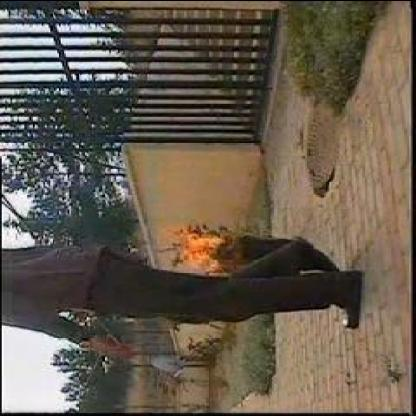foggia-v2-map80-epoch100 - v1 4323: (165, 222, 227, 268)
